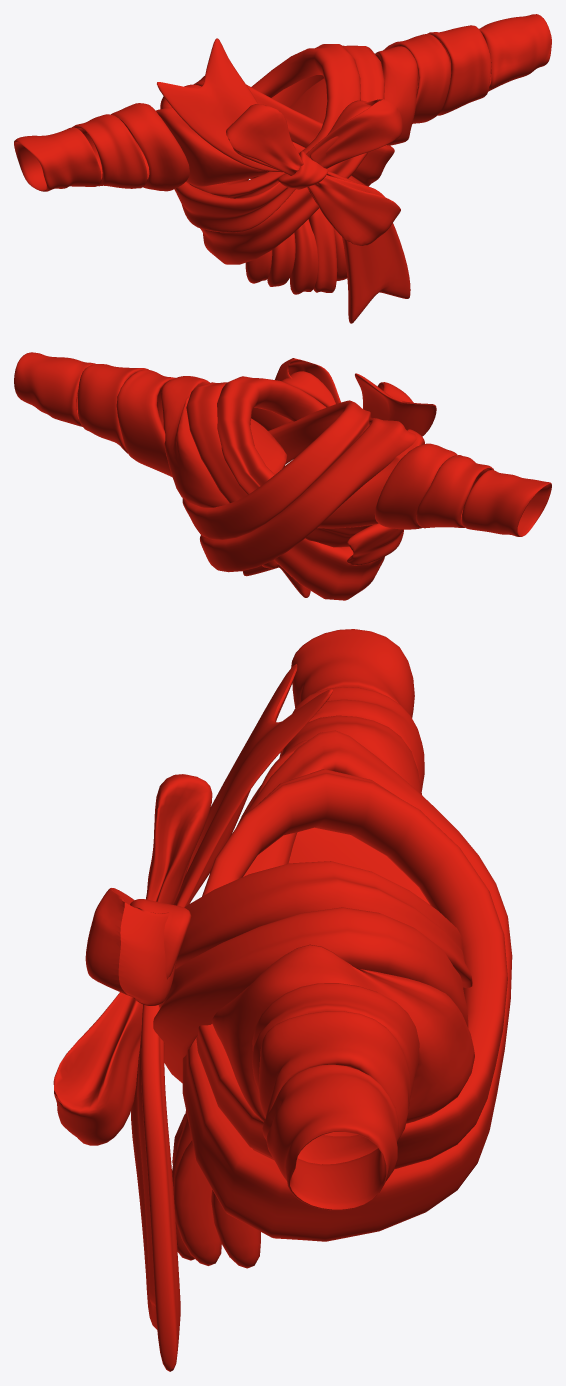
The model's file is sweater.glb.
3 views of the same model, one above another, from view 1: azimuth 30°, elevation 25°; view 2: azimuth 150°, elevation 25°; view 3: azimuth 270°, elevation 25° (orthographic). The views are drawn at different scales.
Parts seen in each view (by area): view 1: RB_Q4_Sweatshirt; view 2: RB_Q4_Sweatshirt; view 3: RB_Q4_Sweatshirt.
Boxes of the visible parts, x1,y1,x2,y2 form: RB_Q4_Sweatshirt: (14, 14, 551, 323); RB_Q4_Sweatshirt: (14, 352, 551, 600); RB_Q4_Sweatshirt: (53, 629, 512, 1371).
Size of the model in its own units: 3.94 by 2.01 by 1.51.
